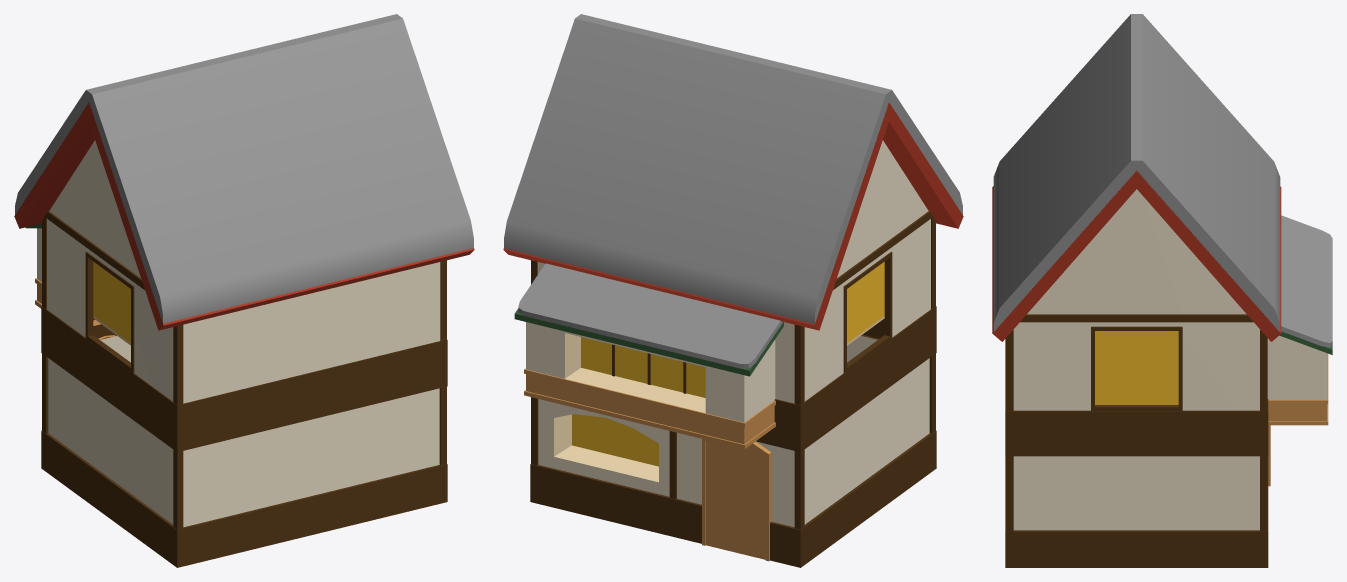
File: hosue_4.fbx
3 renders of one model, left to right at view 1: azimuth 30°, elevation 25°; view 2: azimuth 150°, elevation 25°; view 3: azimuth 270°, elevation 25°, orthographic. The views are drawn at different scales.
Visible parts, largest first — view 1: Object045, Object062, Object054; view 2: Object062, Object045, Object054; view 3: Object045, Object062, Object054.
Boxes of the visible parts, x1,y1,x2,y2 form: Object045: (14,102,474,567); Object062: (15,14,473,323); Object054: (93,261,130,345); Object062: (504,14,962,368); Object045: (503,102,963,567); Object054: (572,261,884,466); Object045: (992,170,1332,567); Object062: (993,14,1332,347); Object054: (1095,331,1178,404).
Bounding box in the file's own units: 38.44 × 50.9 × 37.64.
